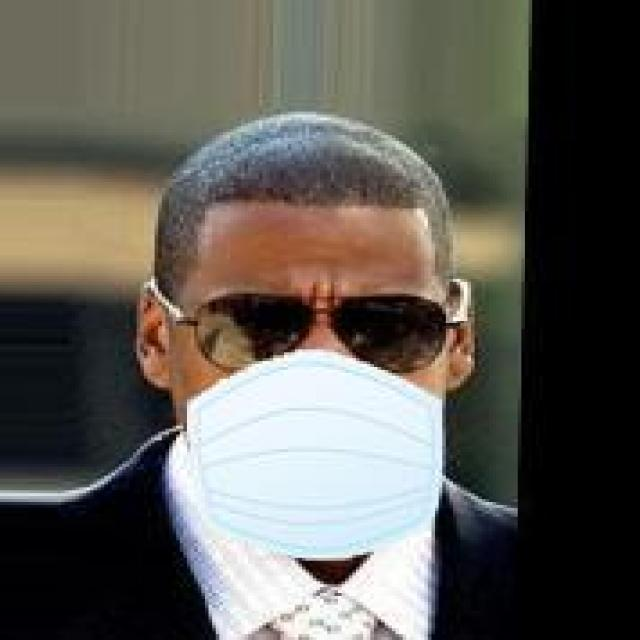mask: (115, 91, 496, 540)
